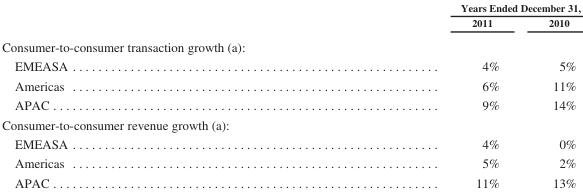table: (1, 1, 579, 189)
table column: (1, 1, 263, 189), (263, 1, 523, 189), (523, 1, 579, 189)
table column header: (1, 1, 579, 34)
table projected row header: (1, 34, 579, 56), (1, 114, 579, 133)
table row: (1, 34, 579, 56), (1, 75, 579, 95), (1, 133, 579, 153), (1, 15, 579, 34), (1, 56, 579, 75), (1, 95, 579, 114), (1, 114, 579, 133), (1, 153, 579, 172), (1, 172, 579, 189), (1, 1, 579, 15)
table spanning cell: (263, 1, 579, 15)
